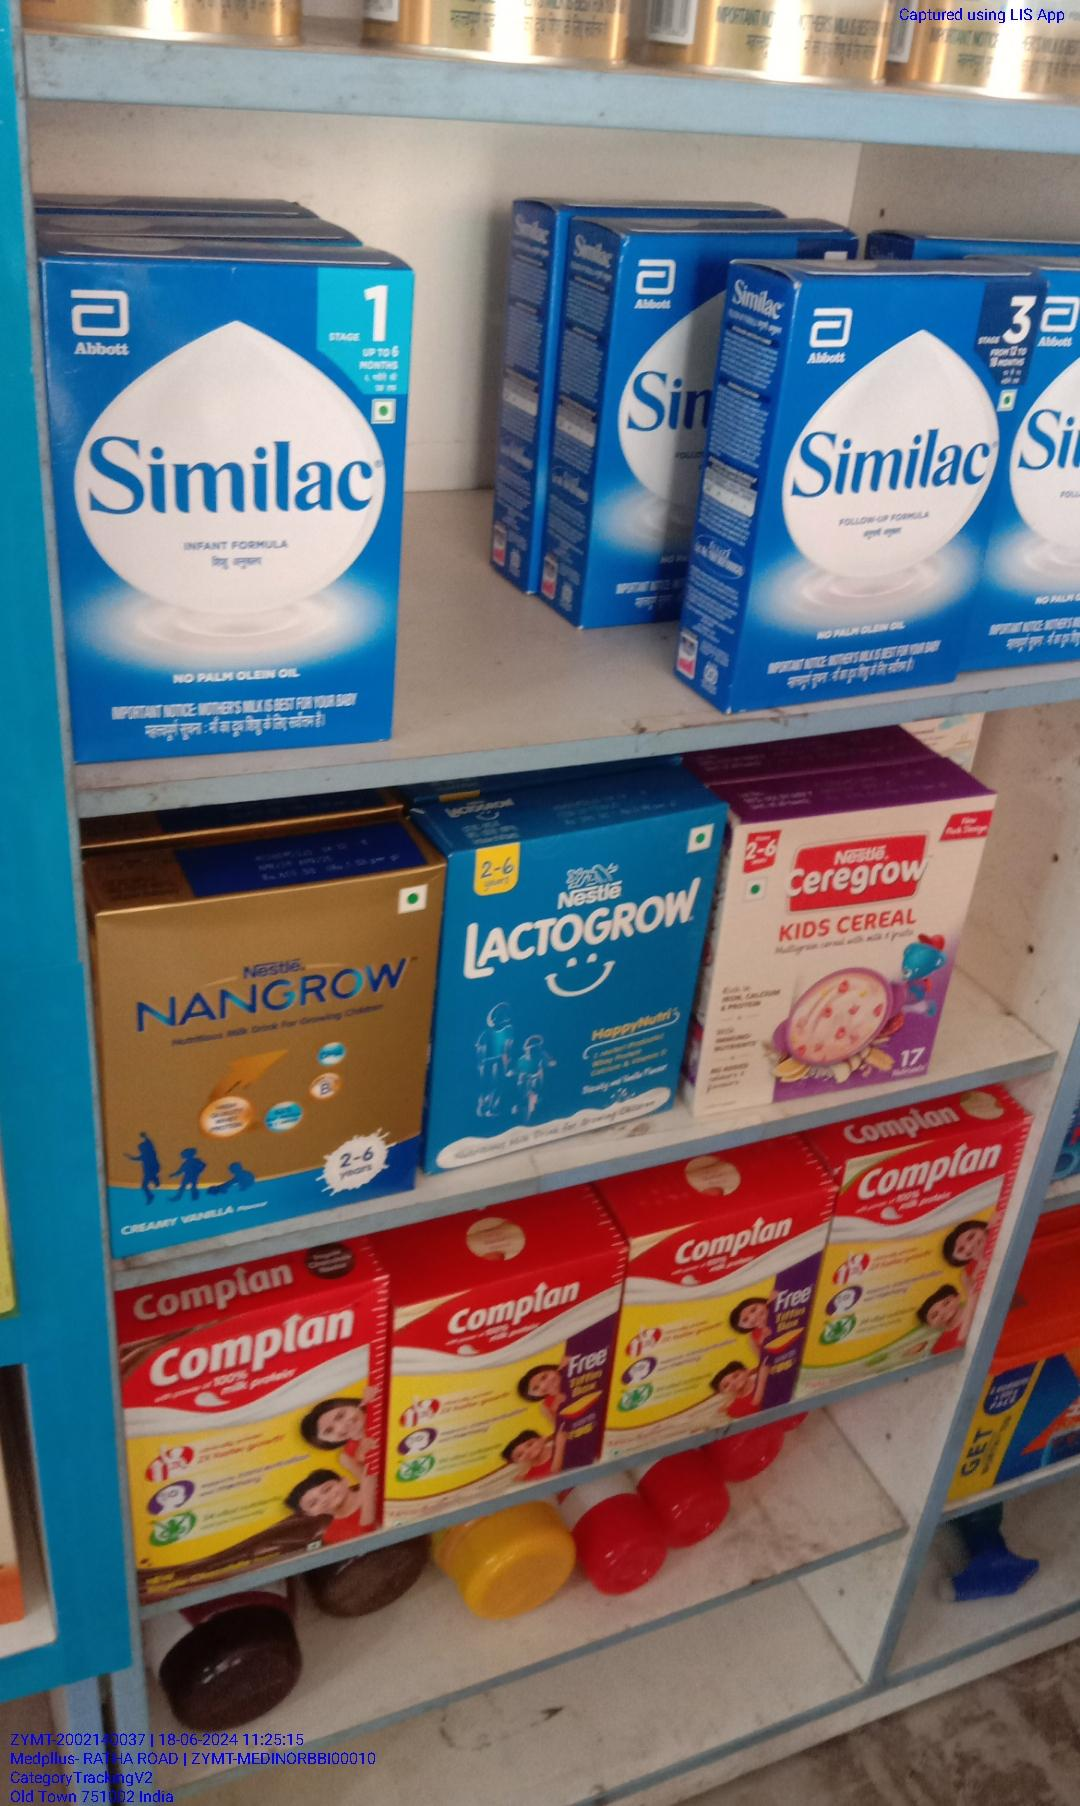COMPLAN_CHOCOLATE_500_GMS_PACK: (123, 1285, 381, 1539)
COMPLAN_KESAR_BADAM_500_GMS_PACK: (392, 1267, 602, 1483), (620, 1233, 797, 1410)
COMPLAN_PISTA_BADAM_500_GMS_PACK: (801, 1145, 986, 1399)
